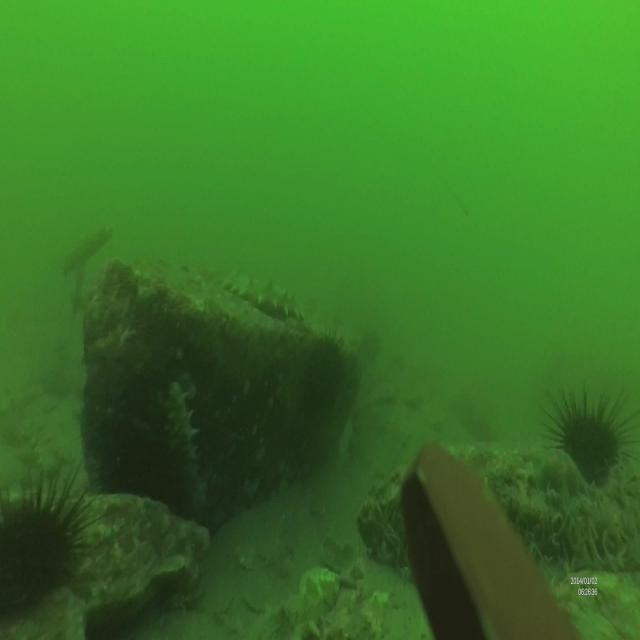echinus: (0, 457, 102, 626), (540, 384, 640, 491), (302, 320, 346, 428)
holothurian: (162, 380, 205, 528), (222, 266, 306, 326)
